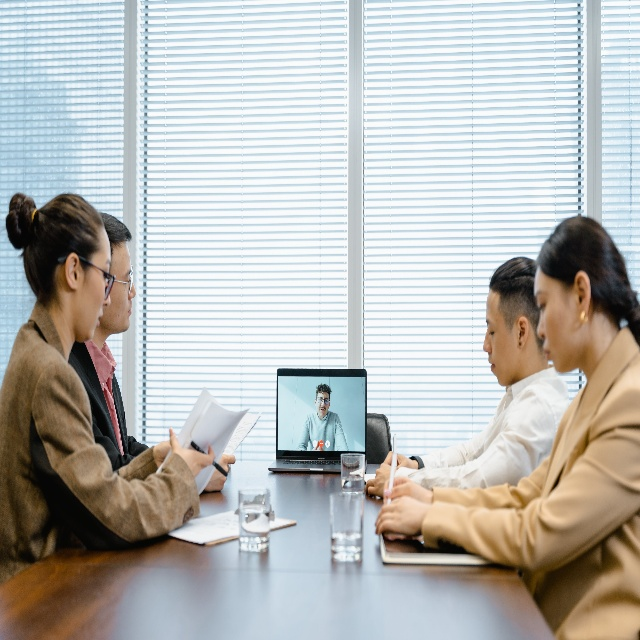Gafas: (58, 253, 116, 300), (106, 262, 134, 295), (316, 397, 330, 405)
Sin_guantes: (168, 425, 215, 478), (373, 496, 423, 543), (381, 475, 423, 508), (362, 459, 397, 498), (204, 453, 236, 492), (382, 450, 411, 470)
